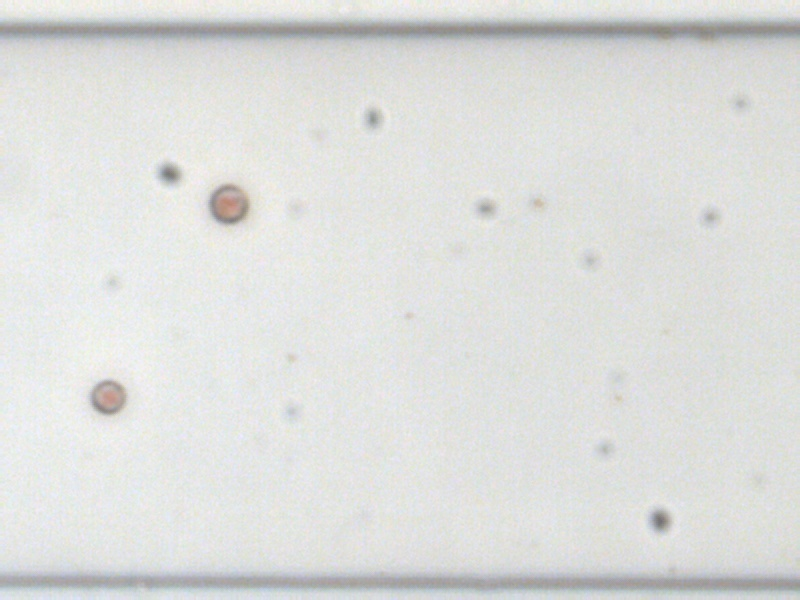Porphyridium: (209, 184, 247, 222), (90, 378, 124, 416)
